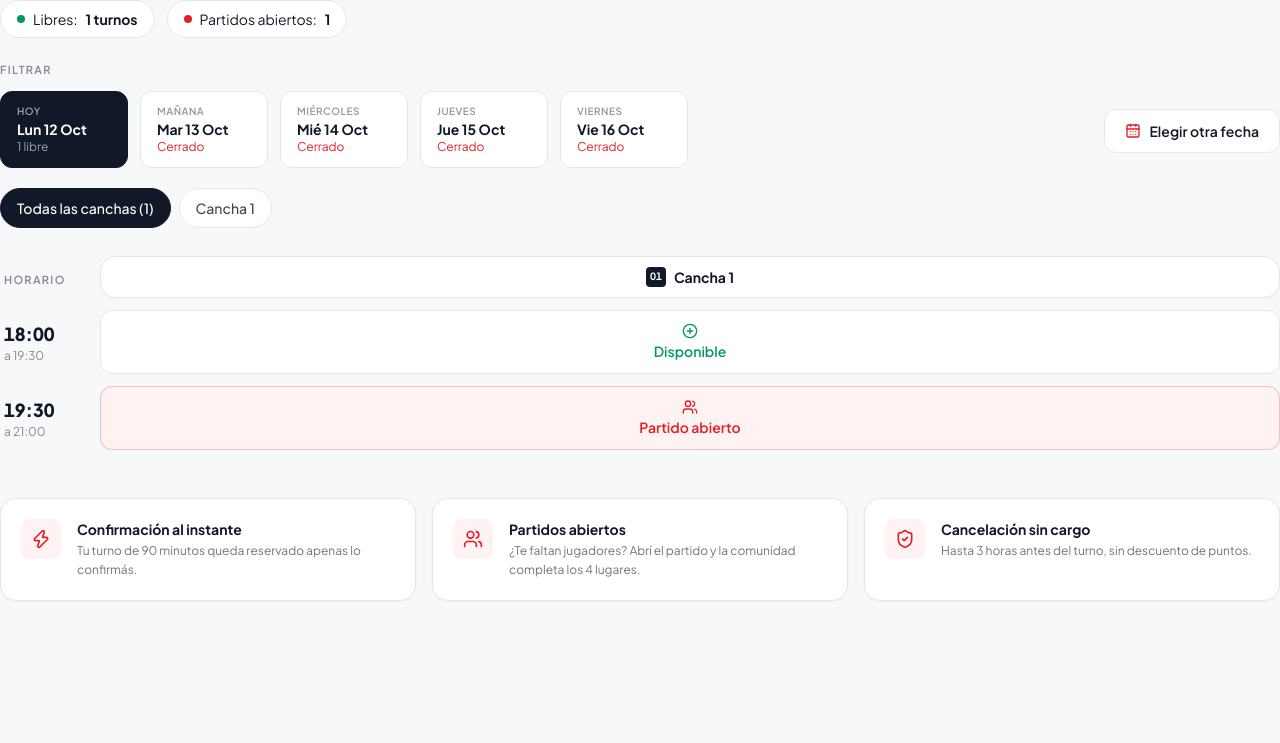
Test: BookingsBoard › sin categoría cargada, al elegir buscar jugadores le pide completarla y no deja reservar
Click the button with aria-label "Cancha 1, 18:00, disponible": (690, 342) [100,310,1279,374]
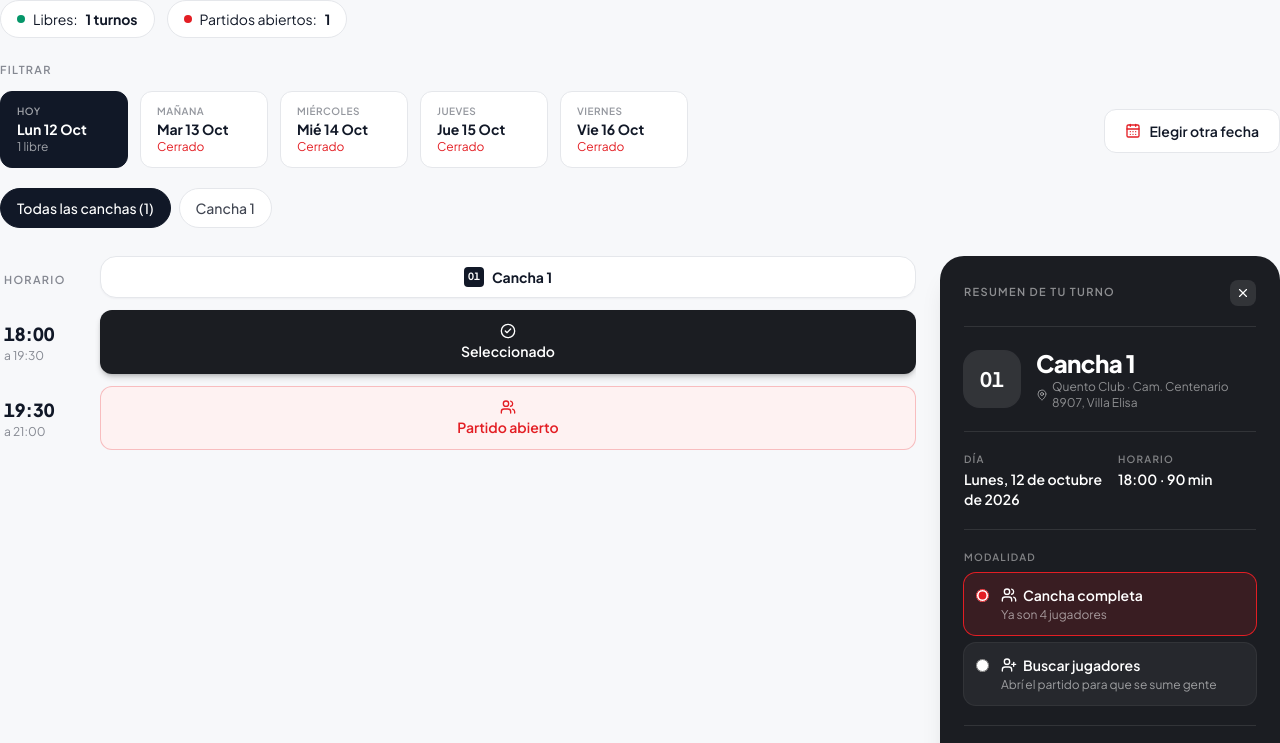
Click the radio button labelled "Buscar jugadores Abrí el partido para que se sume gente": (982, 665) [976,658,989,672]
(page scrolled)
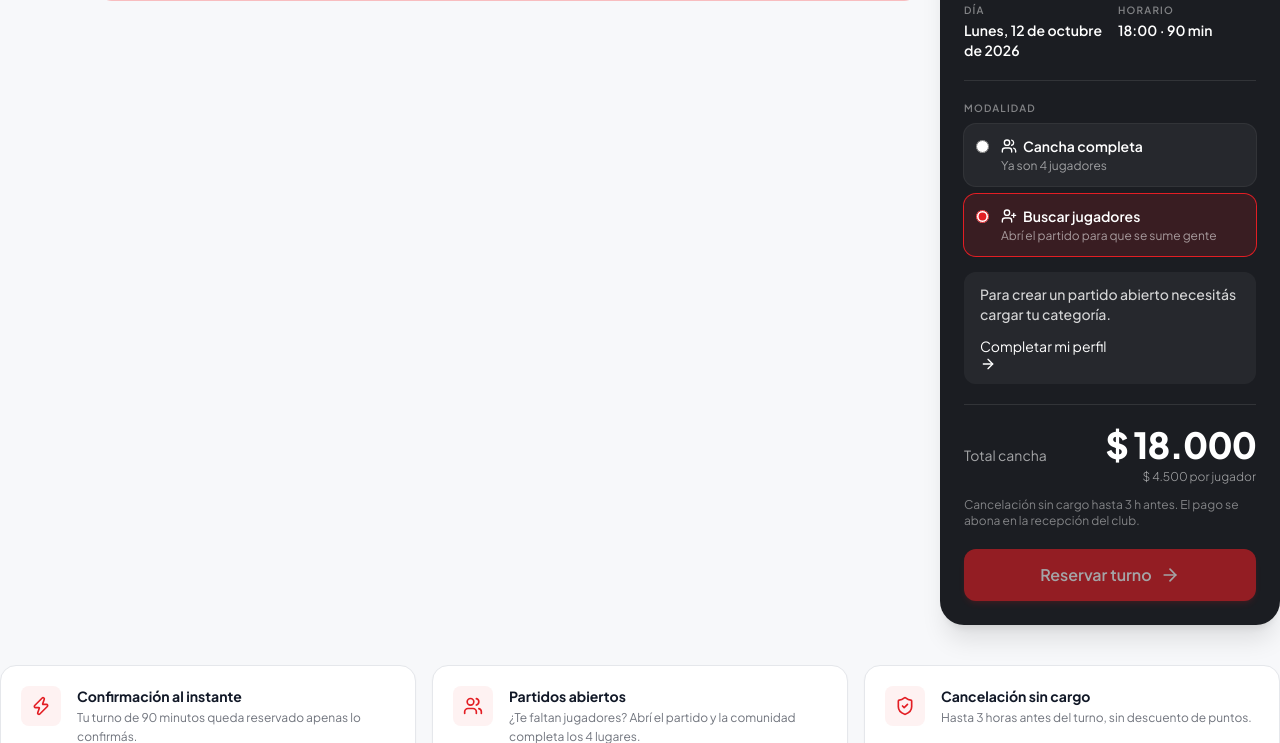
Check: the text "Para crear un partido abierto necesitás cargar tu categoría." is shown, box [980,284,1240,324]
Check: the button "Reservar turno" is disabled, box [964,548,1256,600]
